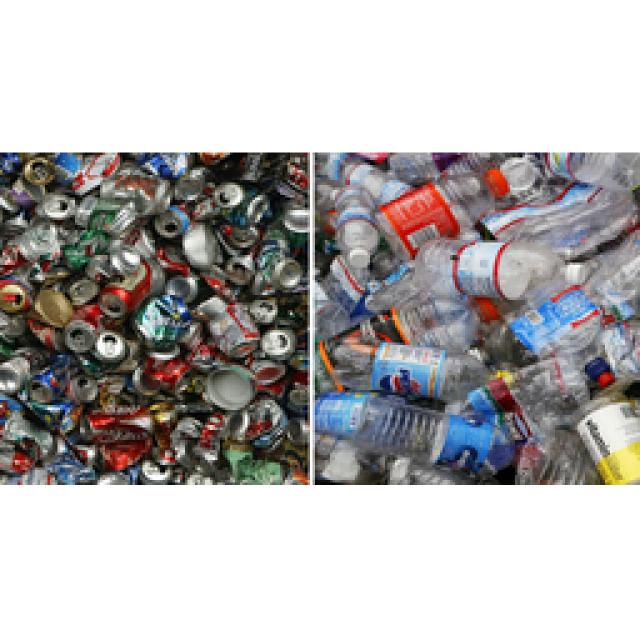plastic_water_bottles: (356, 396, 514, 478), (371, 171, 509, 259), (329, 334, 512, 394), (410, 238, 582, 298), (335, 184, 381, 270)
